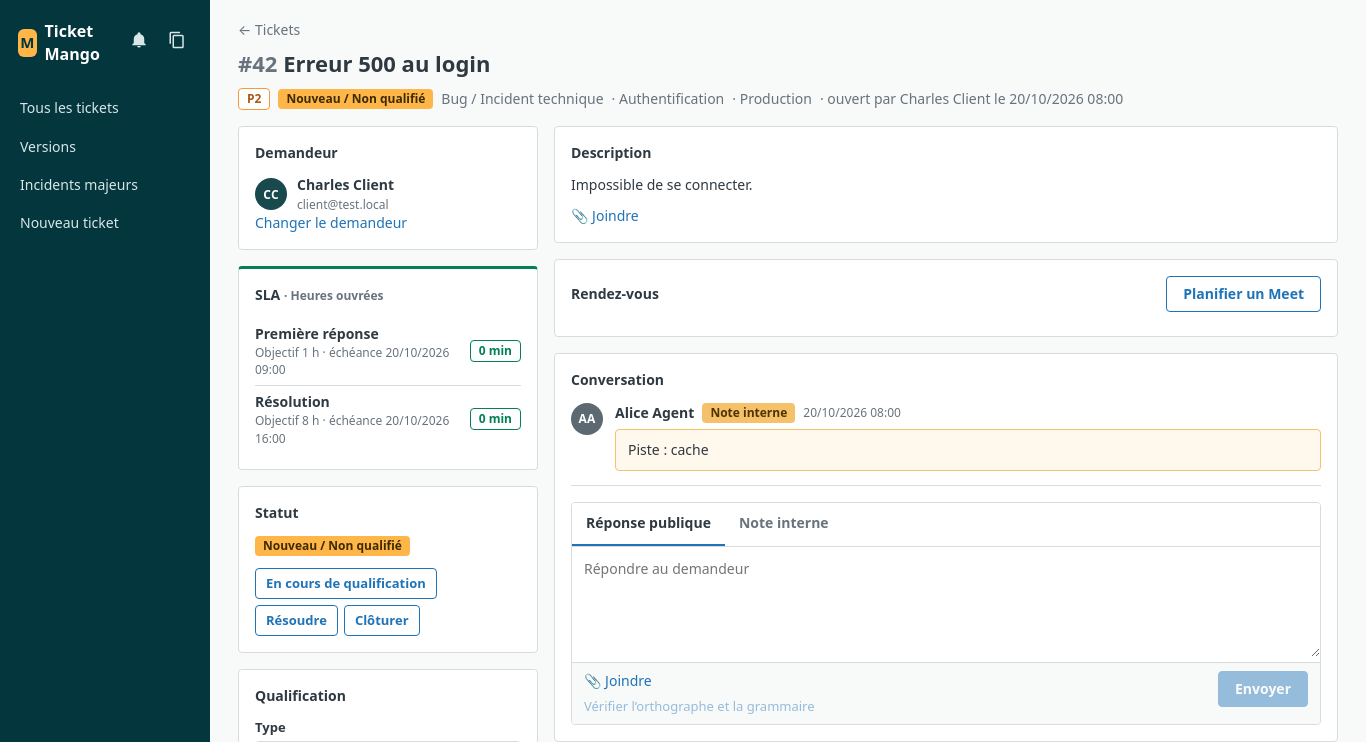
détail d’un ticket › propose uniquement les transitions autorisées par le workflow
Expected: the button "Résoudre" is shown, [255, 605, 338, 636]
Expected: the button "Clôturer" is shown, [344, 605, 420, 636]
Click the button "En cours de qualification": (346, 584) [255, 568, 437, 599]
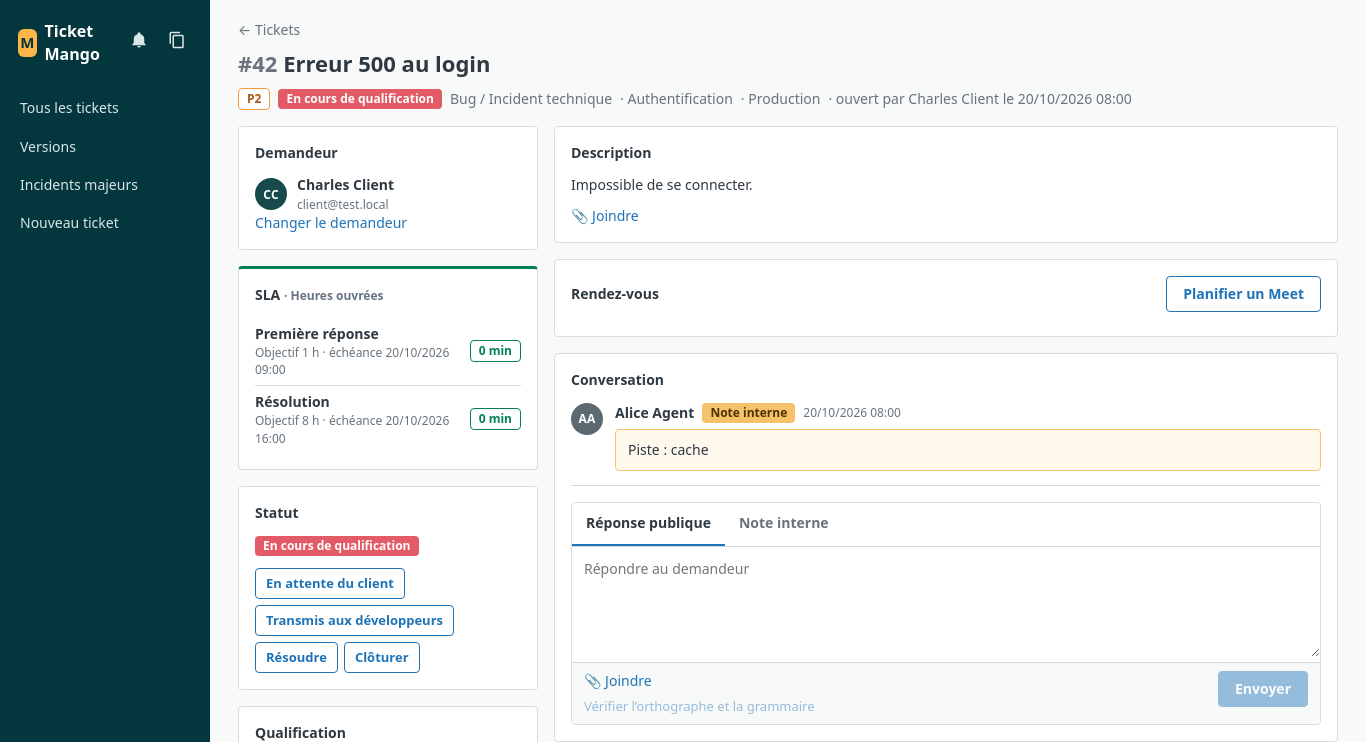
Now the button "Transmis aux développeurs" is shown, box [255, 605, 454, 636]
